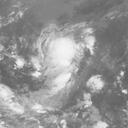cyclone: (52, 37, 77, 65)
